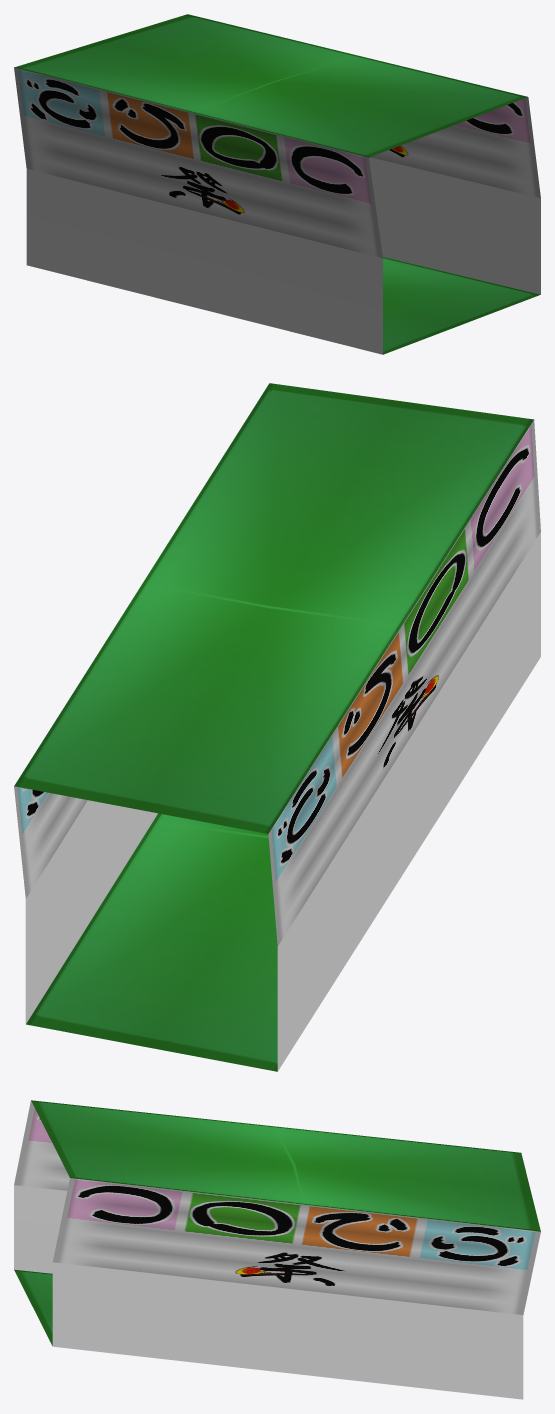
3 renders of one model, top to bottom at view 1: azimuth 30°, elevation 25°; view 2: azimuth 150°, elevation 25°; view 3: azimuth 270°, elevation 25°, orthographic. The views are drawn at different scales.
Parts seen in each view (by area): view 1: polySurface105; view 2: polySurface105; view 3: polySurface105.
Boxes of the visible parts, x1,y1,x2,y2 form: polySurface105: [14, 14, 540, 354]; polySurface105: [14, 383, 540, 1071]; polySurface105: [14, 1100, 540, 1399].
Bounding box in the file's own units: 2.82 × 2.98 × 5.65.
1 material, 1 textured.
